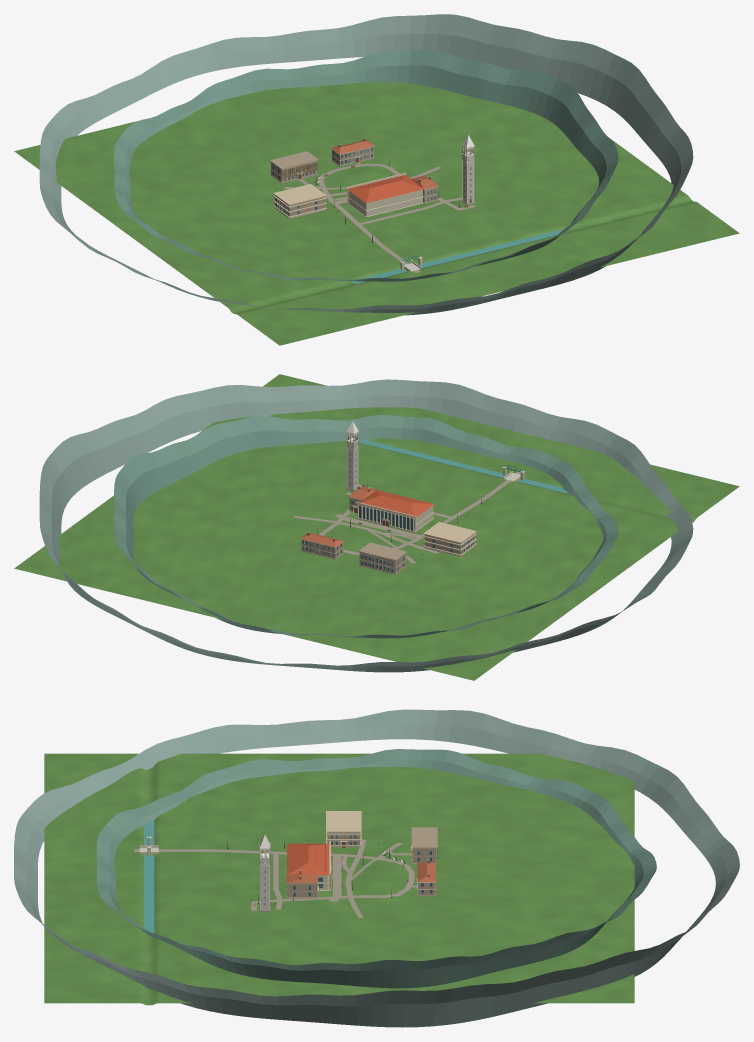
The model's file is site-plan.glb.
3 renders of one model, top to bottom at view 1: azimuth 30°, elevation 25°; view 2: azimuth 150°, elevation 25°; view 3: azimuth 270°, elevation 25°, orthographic. The views are drawn at different scales.
Visible parts, largest first — view 1: Campus Terrain • lawn, Distant wooded hillside.001, Distant wooded hillside, Doe Memorial Library • north portico, Warm shadow stone, Indiana limestone, Water creek, Sather Tower • carillon, Walk 00; view 2: Campus Terrain • lawn, Distant wooded hillside.001, Distant wooded hillside, Warm shadow stone, Indiana limestone, Doe Memorial Library • north portico, Library glazing, Water creek, Sather Tower • carillon, Carved ivory stone, Walk 00, Library terracotta; view 3: Campus Terrain • lawn, Distant wooded hillside.001, Distant wooded hillside, Warm shadow stone, Doe Memorial Library • north portico, Indiana limestone, Water creek, Walk 00, Sather Tower • carillon, Library terracotta.
Boxes of the visible parts, left/top/right/bottom form: Campus Terrain • lawn: left=14, top=82, right=739, bottom=345; Distant wooded hillside.001: left=39, top=14, right=693, bottom=315; Distant wooded hillside: left=114, top=49, right=618, bottom=281; Doe Memorial Library • north portico: left=347, top=175, right=423, bottom=217; Warm shadow stone: left=269, top=138, right=437, bottom=218; Indiana limestone: left=271, top=146, right=438, bottom=271; Water creek: left=351, top=230, right=565, bottom=284; Sather Tower • carillon: left=461, top=133, right=474, bottom=205; Walk 00: left=319, top=163, right=408, bottom=264; Campus Terrain • lawn: left=14, top=374, right=739, bottom=680; Distant wooded hillside.001: left=39, top=379, right=693, bottom=672; Distant wooded hillside: left=114, top=415, right=618, bottom=638; Warm shadow stone: left=301, top=486, right=475, bottom=574; Indiana limestone: left=301, top=471, right=520, bottom=574; Doe Memorial Library • north portico: left=359, top=490, right=434, bottom=531; Library glazing: left=302, top=500, right=473, bottom=571; Water creek: left=360, top=440, right=568, bottom=493; Sather Tower • carillon: left=346, top=419, right=358, bottom=491; Carved ivory stone: left=302, top=471, right=520, bottom=571; Walk 00: left=319, top=480, right=510, bottom=555; Library terracotta: left=301, top=486, right=377, bottom=546; Campus Terrain • lawn: left=44, top=753, right=634, bottom=1005; Distant wooded hillside.001: left=14, top=709, right=739, bottom=1027; Distant wooded hillside: left=96, top=749, right=656, bottom=988; Warm shadow stone: left=287, top=827, right=437, bottom=898; Doe Memorial Library • north portico: left=287, top=843, right=329, bottom=890; Indiana limestone: left=139, top=811, right=436, bottom=898; Water creek: left=144, top=820, right=154, bottom=934; Walk 00: left=160, top=849, right=414, bottom=897; Sather Tower • carillon: left=259, top=833, right=270, bottom=911; Library terracotta: left=286, top=862, right=436, bottom=882.
Bounding box in the file's own units: 334 × 41.75 × 332.
